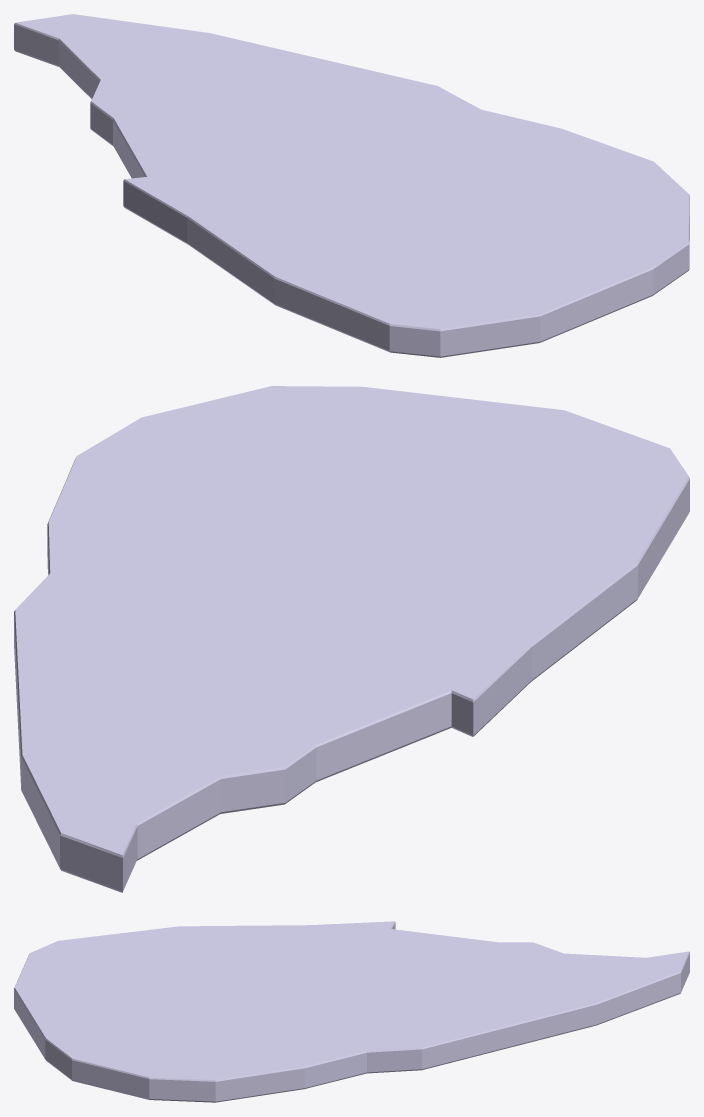
Rendered from LKA.glb.
3 views of the same model, one above another, from view 1: azimuth 30°, elevation 25°; view 2: azimuth 150°, elevation 25°; view 3: azimuth 270°, elevation 25° (orthographic). The views are drawn at different scales.
Size of the model in its own units: 1.04 by 0.068 by 1.86.
